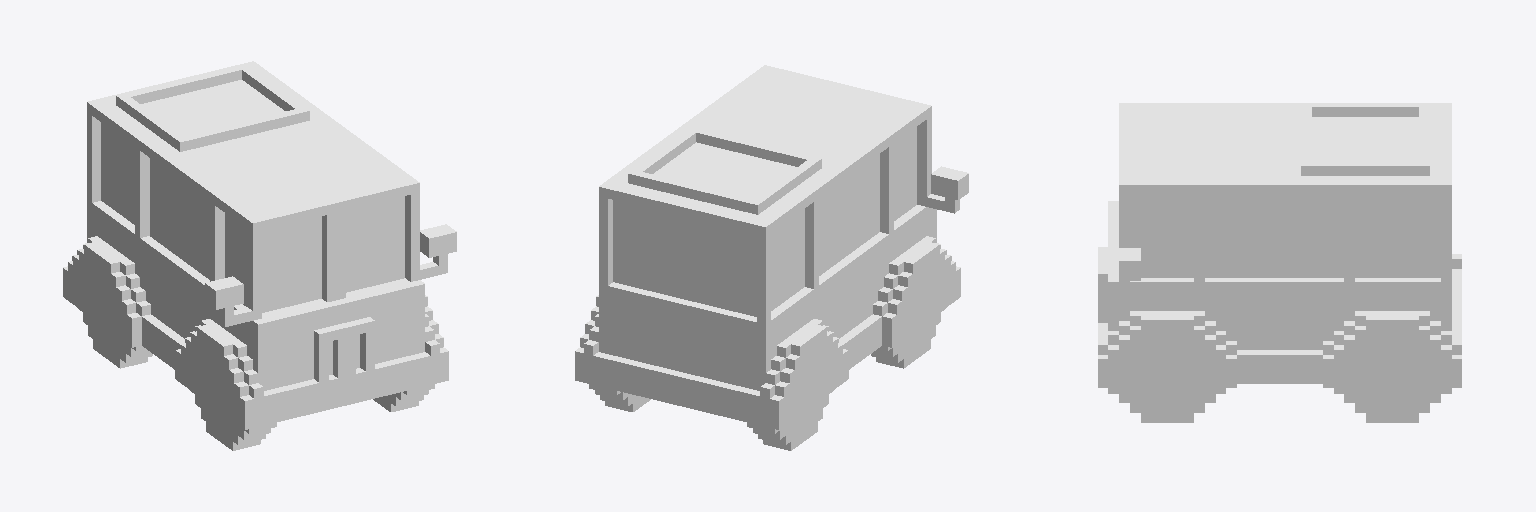
Rendered from norbus.obj.
The picture shows the model from 3 angles: view 1: azimuth 30°, elevation 25°; view 2: azimuth 150°, elevation 25°; view 3: azimuth 270°, elevation 25°; orthographic projection.
Visible parts, largest first — view 1: norbus; view 2: norbus; view 3: norbus.
Part boxes in pixels (x1,y1,x2,y2): norbus: (63,61,456,450); norbus: (575,65,968,450); norbus: (1098,103,1461,422).
Bounding box in the file's own units: 26 × 25 × 34.